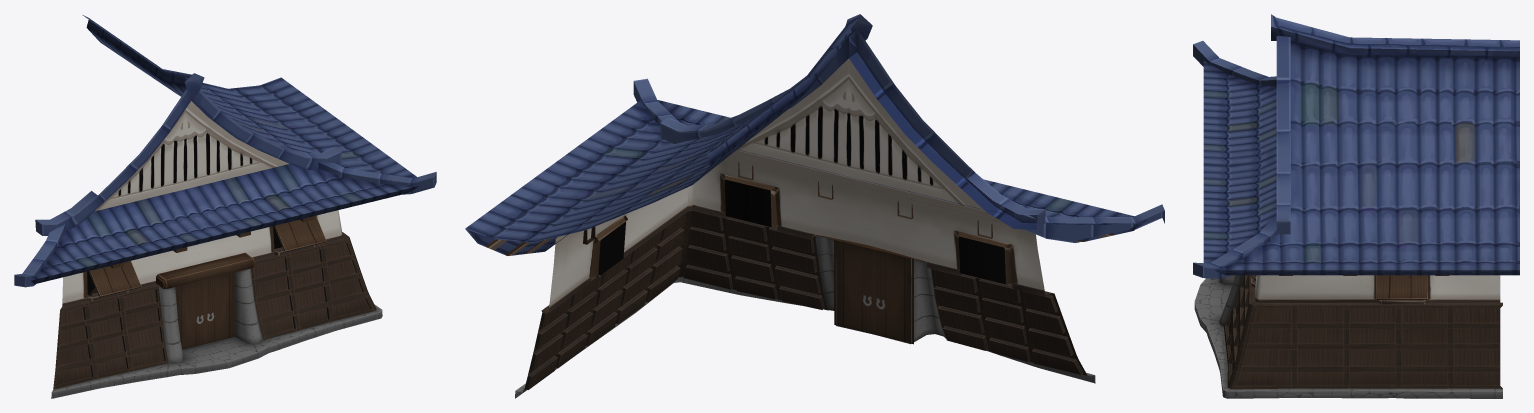
The model's file is Entrada.fbx.
3 renders of one model, left to right at view 1: azimuth 30°, elevation 25°; view 2: azimuth 150°, elevation 25°; view 3: azimuth 270°, elevation 25°, orthographic. The views are drawn at different scales.
Visible parts, largest first — view 1: Entrada_Castillo.001; view 2: Entrada_Castillo.001; view 3: Entrada_Castillo.001.
Part boxes in pixels (x1,y1,x2,y2): Entrada_Castillo.001: (14, 15, 436, 398); Entrada_Castillo.001: (465, 14, 1164, 398); Entrada_Castillo.001: (1193, 14, 1519, 398).
Size of the model in its own units: 1332 by 812 by 816.
